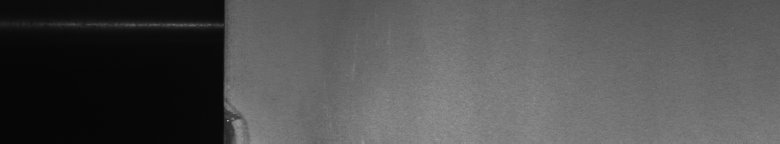hb: (232, 102, 252, 136)
